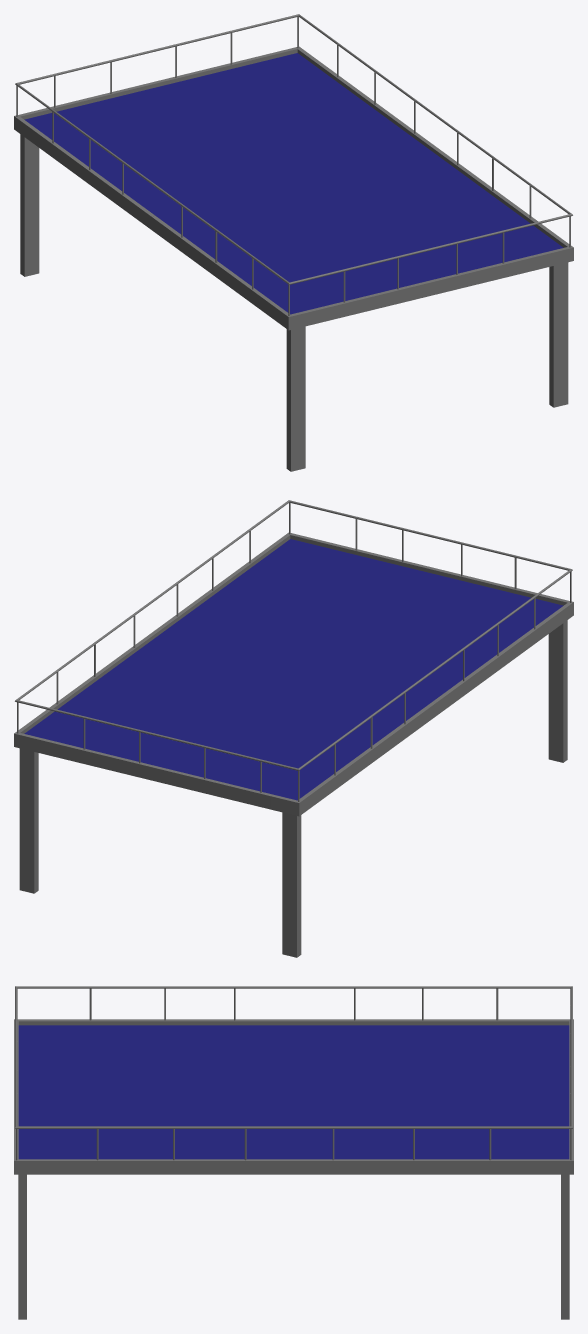
Rendered from separated_1_V2.FBX.
3 views of the same model, one above another, from view 1: azimuth 30°, elevation 25°; view 2: azimuth 150°, elevation 25°; view 3: azimuth 270°, elevation 25° (orthographic).
Parts seen in each view (by area): view 1: Plane001, Object058; view 2: Plane001, Object058; view 3: Plane001, Object058.
Part boxes in pixels (bbox=[...]): Plane001: bbox=[24, 53, 563, 314]; Object058: bbox=[14, 14, 573, 471]; Plane001: bbox=[24, 539, 563, 800]; Object058: bbox=[14, 500, 573, 957]; Plane001: bbox=[18, 1025, 569, 1159]; Object058: bbox=[14, 986, 573, 1319].
Bounding box in the file's own units: 779 × 498 × 1301.
